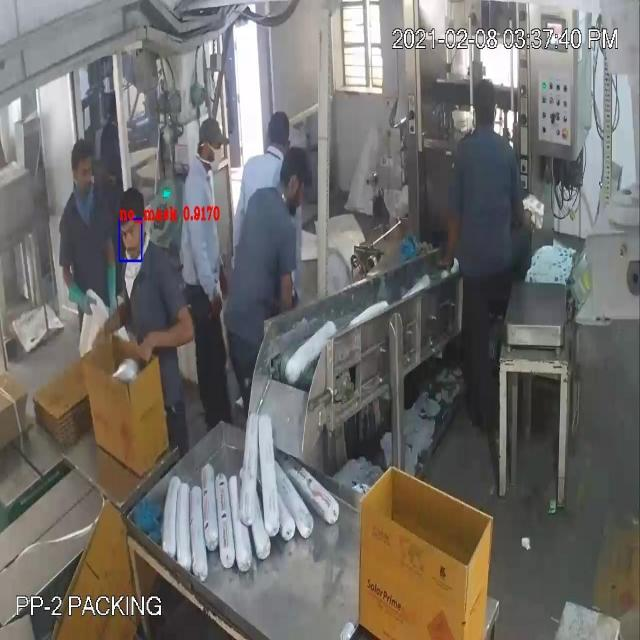Gloves: (26, 54, 168, 335)
